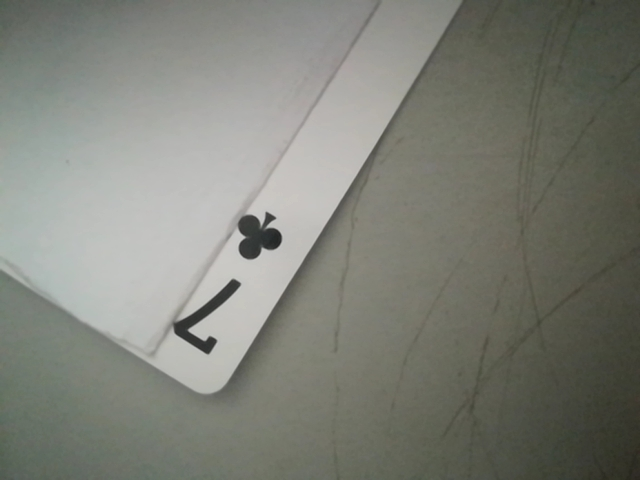mh 7: (164, 203, 294, 370)
